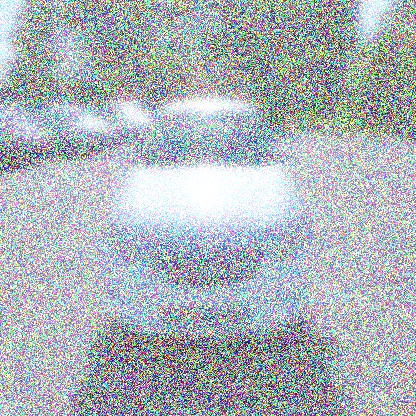Vehicle: (103, 98, 312, 341)
